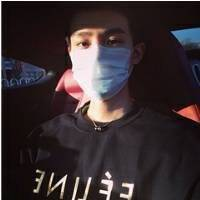face_mask: (68, 7, 131, 98)
